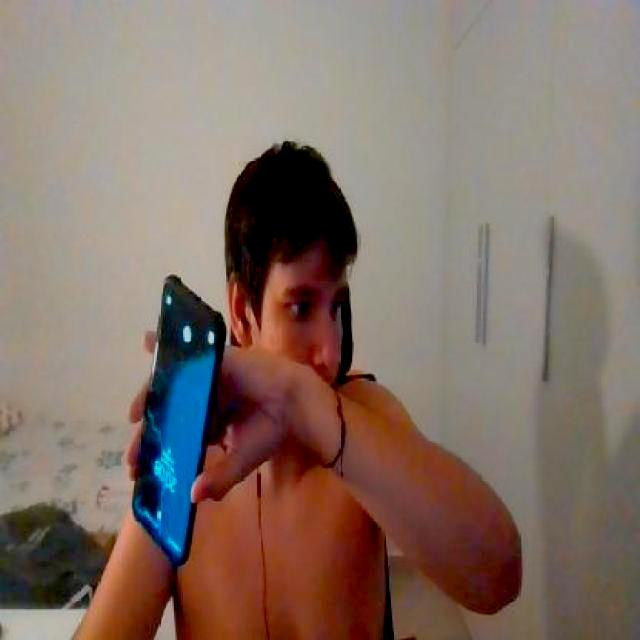phone: (132, 278, 226, 571)
